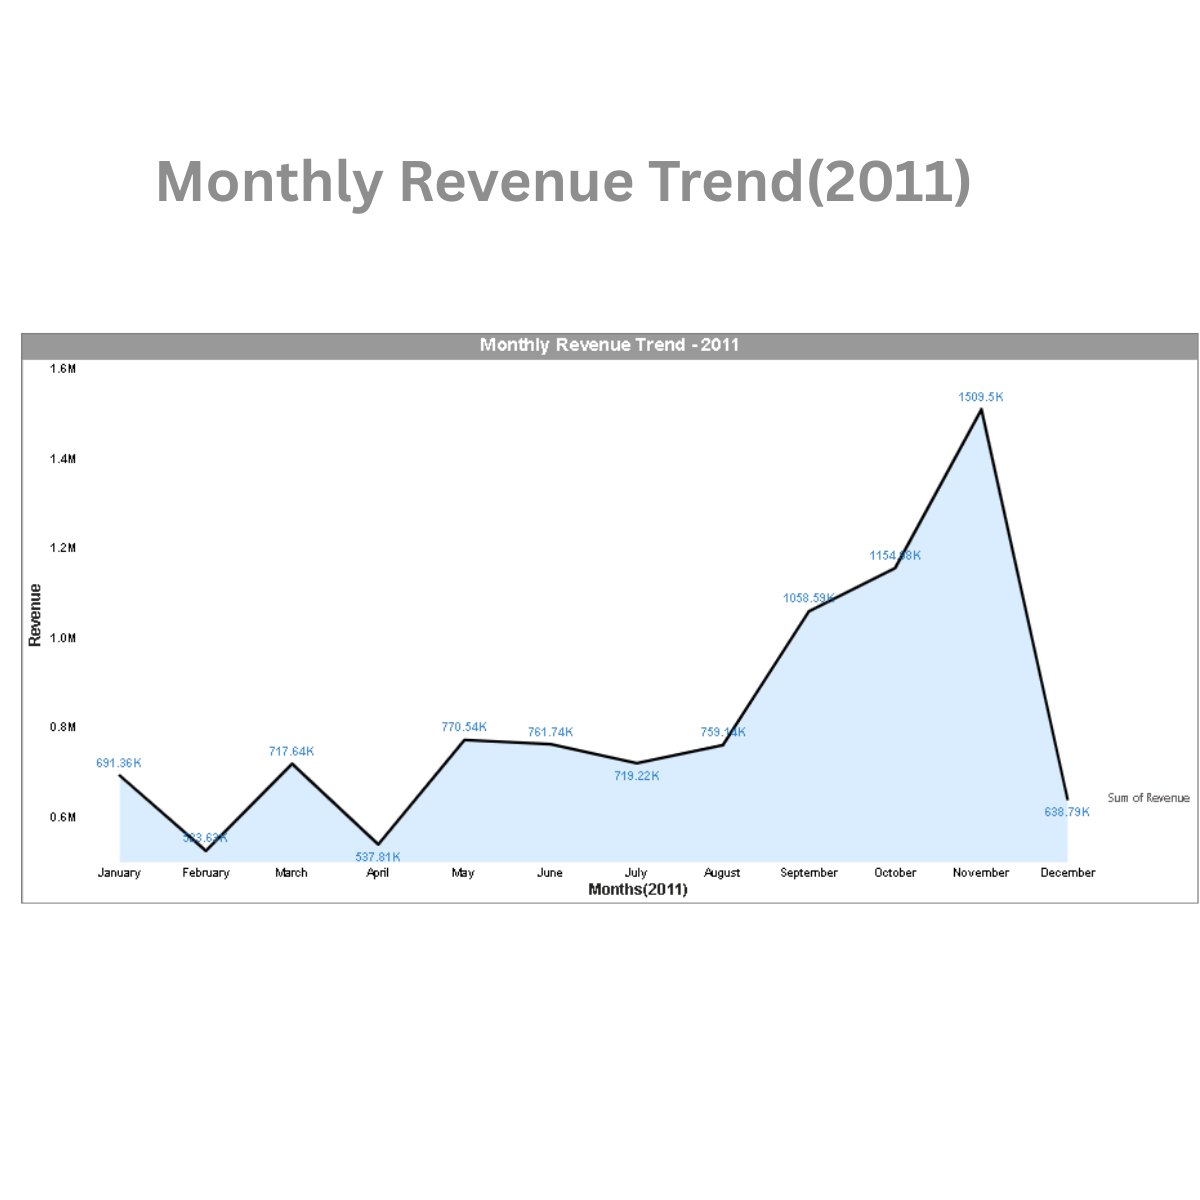

What the dashboard file says about the page in this screenshot:
{"tool":"powerbi","page":{"name":"Page 1","canvas":[1280,720],"ordinal":0},"visuals":[{"type":"lineChart","title":"Monthly Revenue Trend - 2011","fields":{"Y":["Sum(Sheet1.Revenue)"],"Category":["Sheet1.InvoiceDate.Variation.Date Hierarchy.Month"]},"box":[30,54,1218,590],"z":0}]}

Visuals, with their boxes on the page's 1280x720 design canvas (x1, y1, x2, y2). These are canvas units, not pixel positions in the 1200x1200 screenshot, which may show the page scaled, cropped or inside an application window:
"Monthly Revenue Trend - 2011" lineChart: box=[30, 54, 1248, 644]
